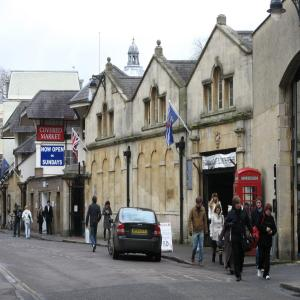Vehicle-registration-plate: (133, 230, 148, 235)
